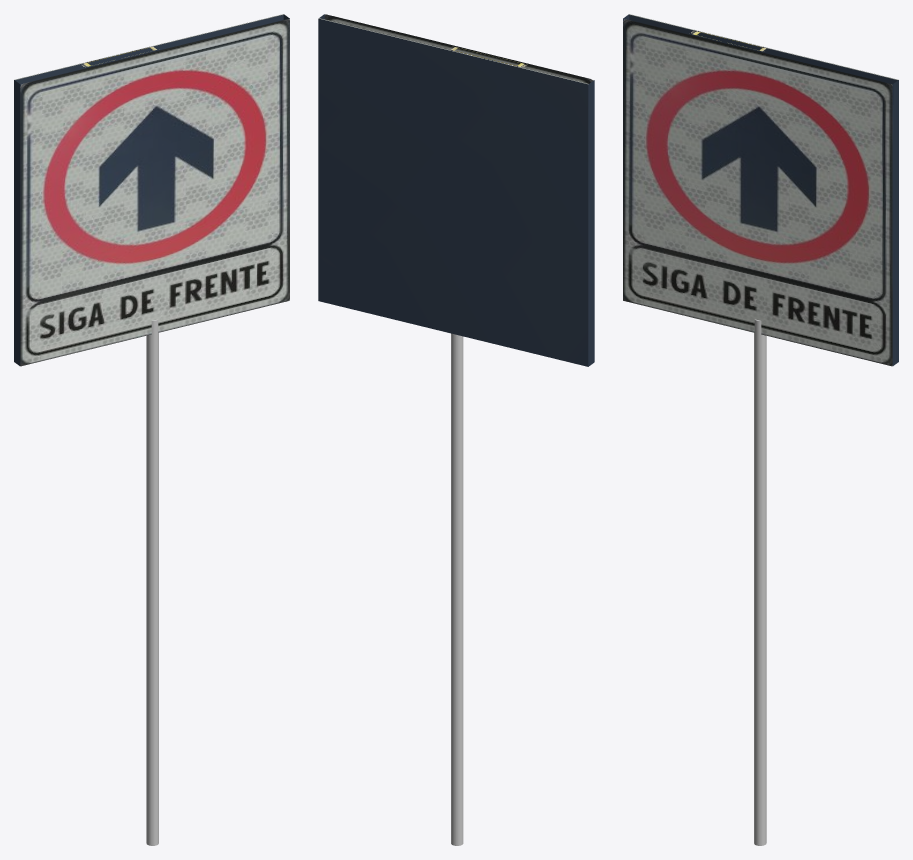
The model's file is Letrero de siga.fbx.
The picture shows the model from 3 angles, left to right: view 1: azimuth 30°, elevation 25°; view 2: azimuth 150°, elevation 25°; view 3: azimuth 330°, elevation 25°; orthographic projection.
Parts seen in each view (by area): view 1: Cube, Cilindro; view 2: Cube, Cilindro; view 3: Cube, Cilindro.
Boxes of the visible parts, x1=… form: Cube: x1=14, y1=14, x2=289, y2=366; Cilindro: x1=146, y1=319, x2=158, y2=845; Cube: x1=318, y1=14, x2=594, y2=366; Cilindro: x1=451, y1=333, x2=463, y2=845; Cube: x1=623, y1=14, x2=898, y2=366; Cilindro: x1=754, y1=319, x2=766, y2=845.
Bounding box in the file's own units: 200 × 563 × 8.92.
1 material, 1 textured.
